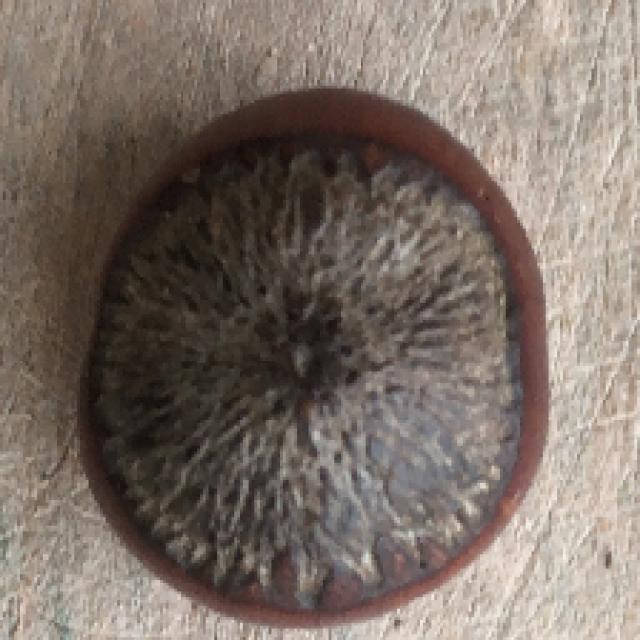damagedHazelnut: (77, 87, 548, 639)
